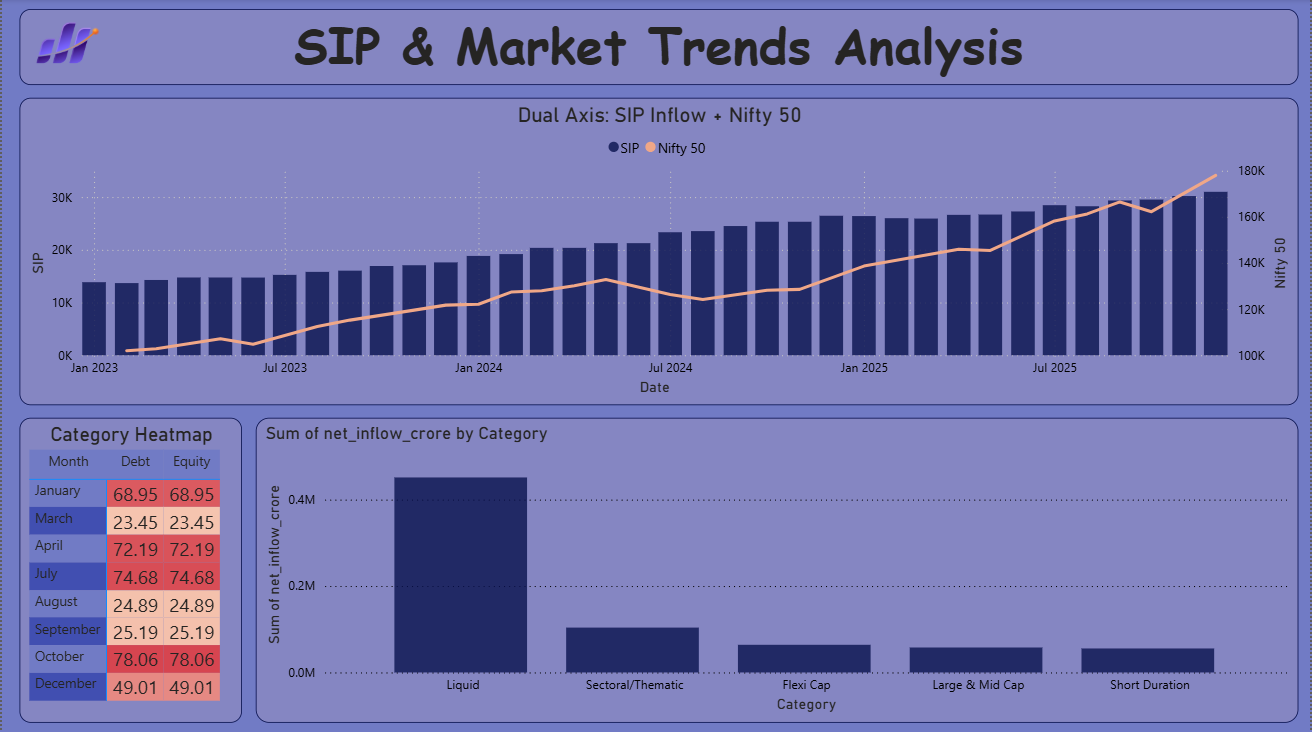

This screenshot's page, from the dashboard's own definition file:
{"tool":"powerbi","page":{"name":"SIP & Market Trends","canvas":[1280,720],"ordinal":3},"visuals":[{"type":"lineClusteredColumnComboChart","title":"Dual Axis: SIP Inflow + Nifty 50","fields":{"Y":["Sum(04_monthly_sip_inflows.sip_inflow_crore)"],"Y2":["Sum(10_benchmark_indices.close_value)"],"Category":["04_monthly_sip_inflows.date"]},"box":[17.1,96.6,1251,300.8],"z":0},{"type":"pivotTable","title":"Category Heatmap","fields":{"Rows":["date.Date.Variation.Date Hierarchy.Month"],"Columns":["01_fund_master.category"],"Values":["06_industry_folio_count.Total Folios"]},"box":[17.1,409.6,217.7,298.4],"z":1000},{"type":"clusteredColumnChart","fields":{"Category":["05_category_inflows.category"],"Y":["Sum(05_category_inflows.net_inflow_crore)"]},"box":[248.2,409.6,1019.8,298.4],"z":2000},{"type":"textbox","box":[17.1,9.8,1251,74.6],"z":3000},{"type":"image","box":[17.1,1.2,91.7,83.2],"z":3001}]}

Visuals, with their boxes in screenshot pixels (x1, y1, x2, y2), scaled from the page's 1280x720 canvas onto the 1312x732 screenshot:
"Dual Axis: SIP Inflow + Nifty 50" lineClusteredColumnComboChart: bbox(18, 98, 1300, 404)
"Category Heatmap" pivotTable: bbox(18, 416, 241, 720)
clusteredColumnChart - 05_category_inflows.category x Sum(05_category_inflows.net_inflow_crore): bbox(254, 416, 1300, 720)
textbox: bbox(18, 10, 1300, 86)
image: bbox(18, 1, 112, 86)
